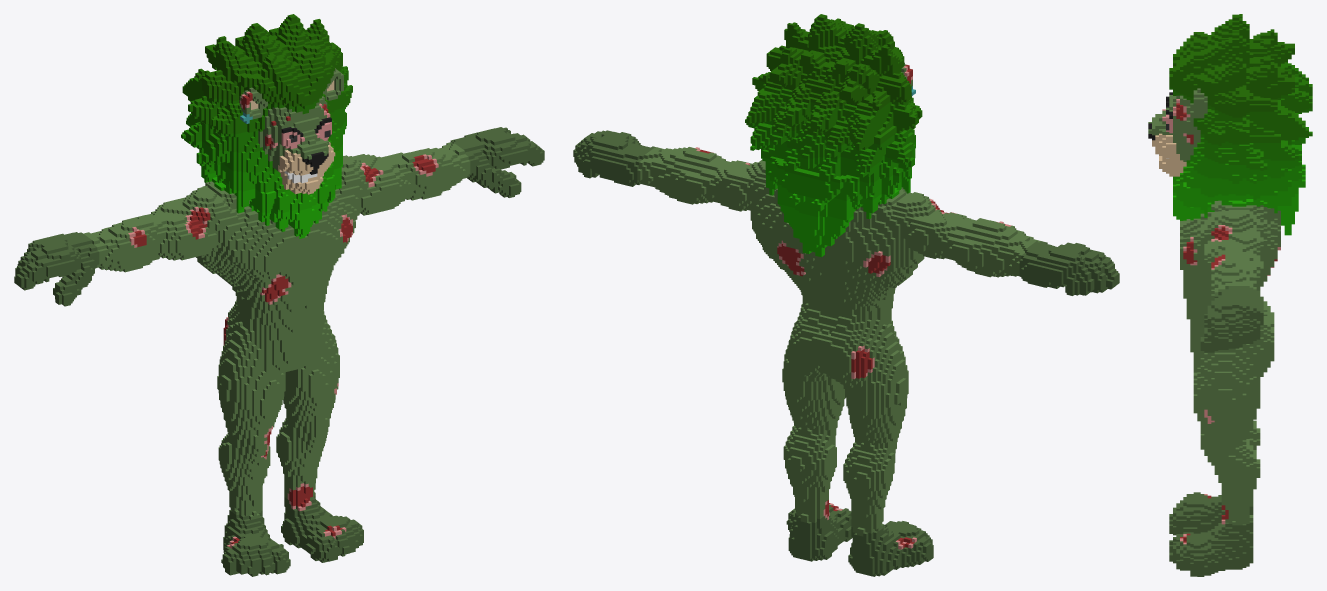
The picture shows the model from 3 angles, left to right: view 1: azimuth 30°, elevation 25°; view 2: azimuth 150°, elevation 25°; view 3: azimuth 270°, elevation 25°; orthographic projection. The views are drawn at different scales.
Visible parts, largest first — view 1: grin; view 2: grin; view 3: grin.
Boxes of the visible parts, x1,y1,x2,y2 form: grin: (14,14,544,576); grin: (573,14,1119,576); grin: (1148,14,1312,576).
Size of the model in its own units: 17.2 by 16.5 by 4.7.
Materials: 5 (5 with a texture image).
